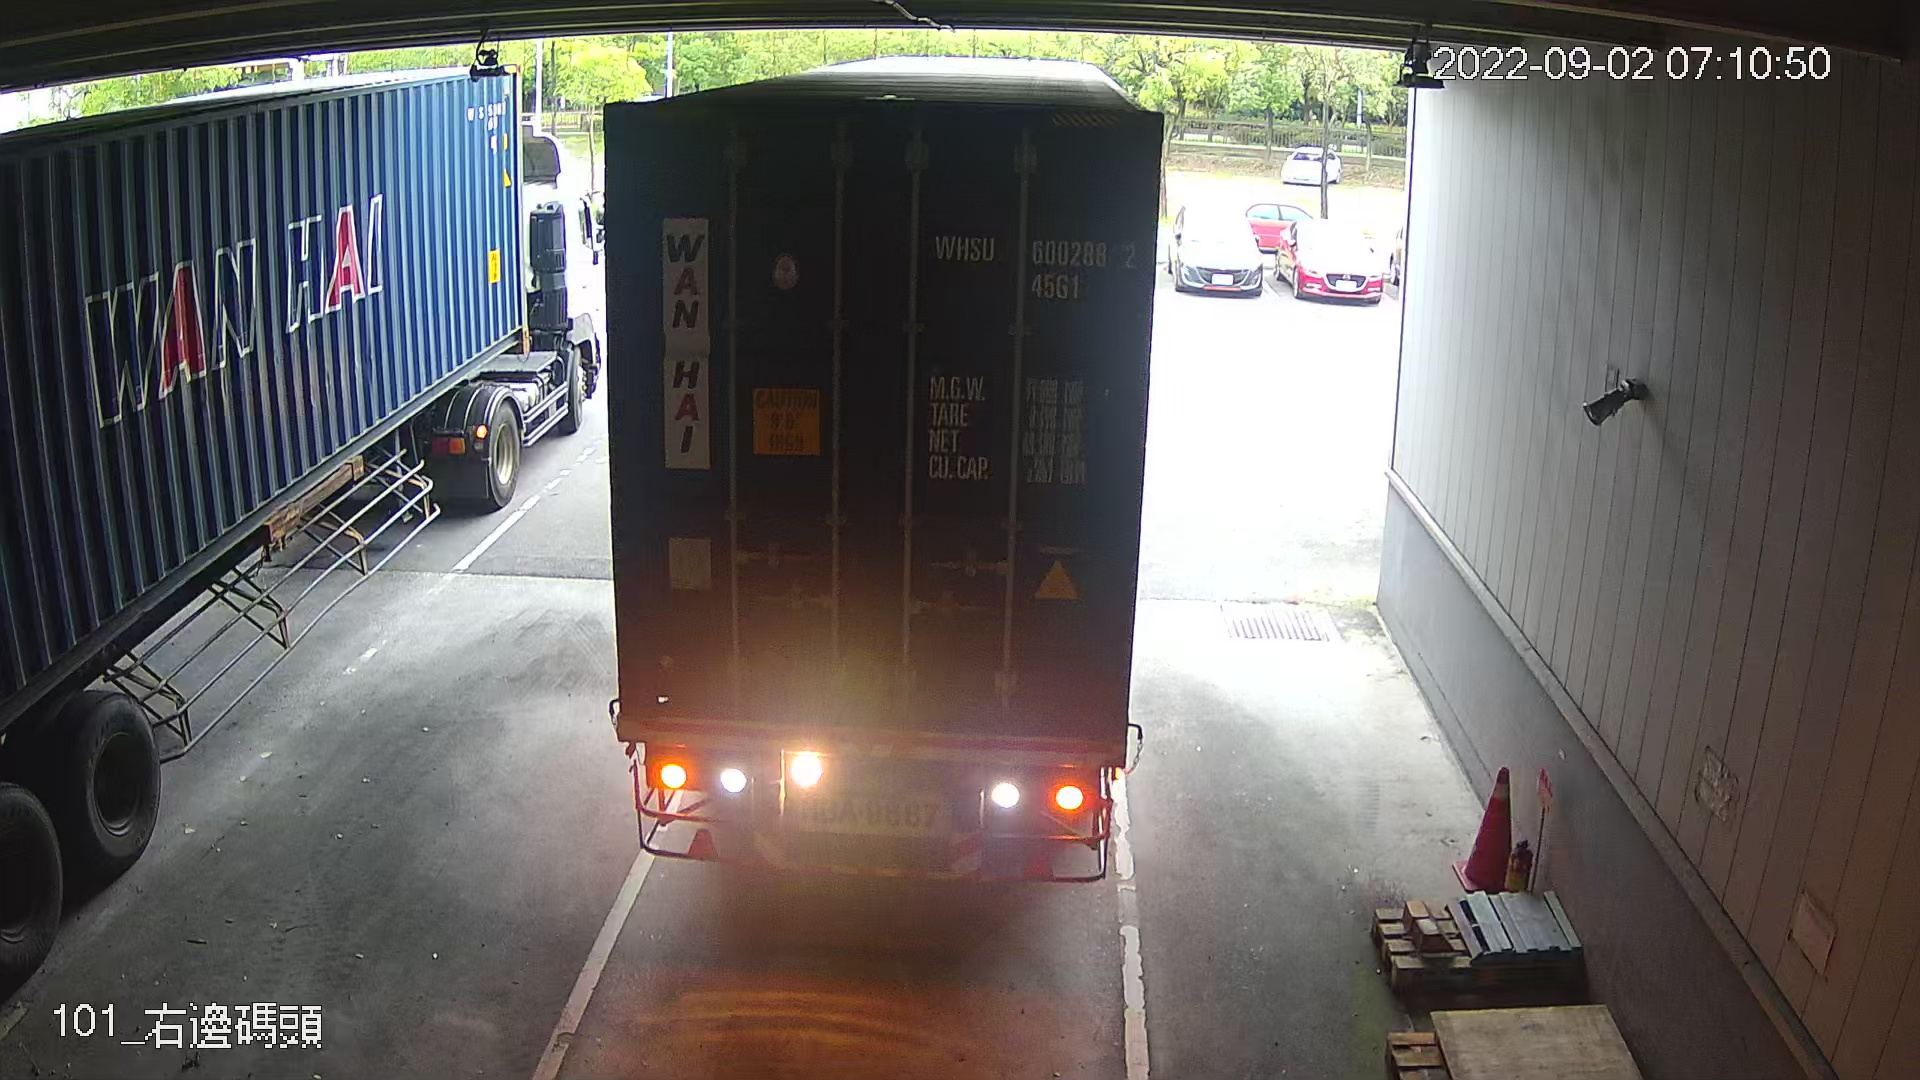container: (924, 222, 1145, 309)
